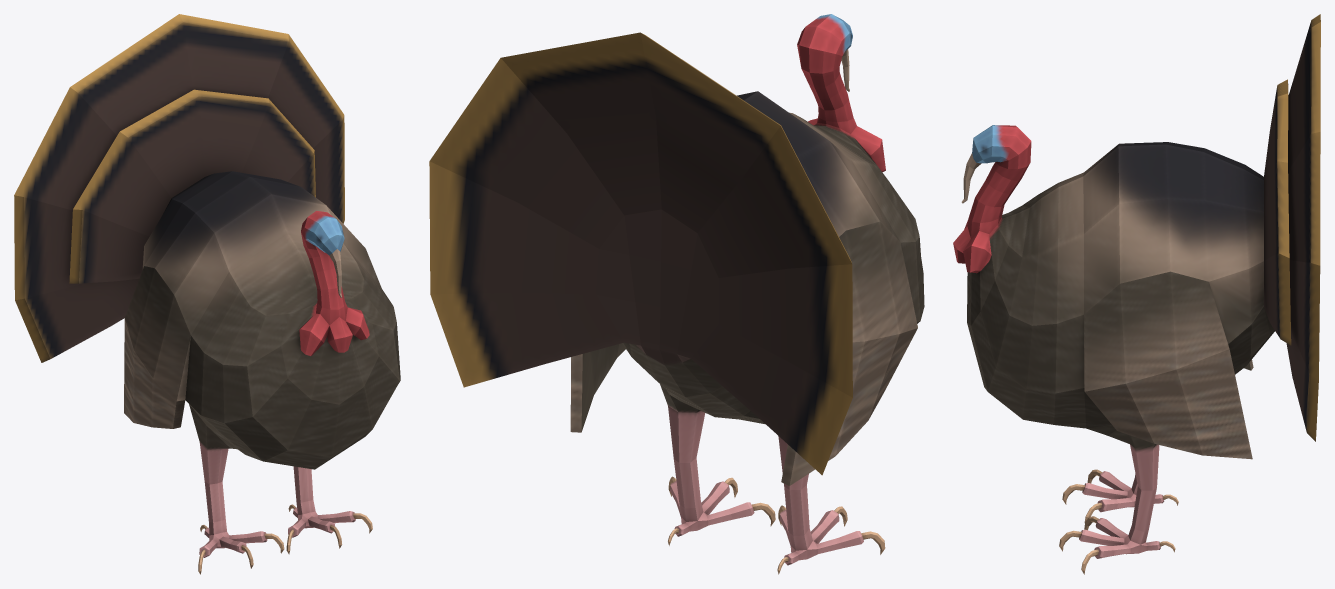
File: ev_turkey.glb
3 views of the same model, side by side, from view 1: azimuth 30°, elevation 25°; view 2: azimuth 150°, elevation 25°; view 3: azimuth 270°, elevation 25° (orthographic). The views are drawn at different scales.
Visible parts, largest first — view 1: Turkey_mesh; view 2: Turkey_mesh; view 3: Turkey_mesh.
Part boxes in pixels (x1=…): Turkey_mesh: x1=14, y1=14, x2=400, y2=574; Turkey_mesh: x1=429, y1=14, x2=924, y2=574; Turkey_mesh: x1=953, y1=14, x2=1320, y2=574.
Size of the model in its own units: 9.47 by 12.73 by 8.29.
1 material, 1 textured.
